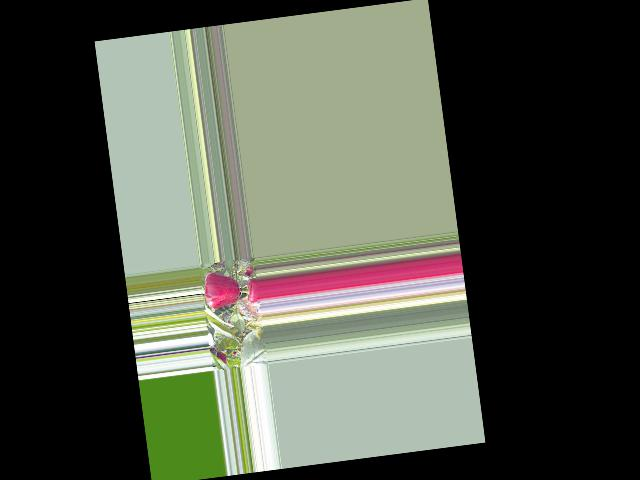bell_pepper: (243, 276, 261, 306)
